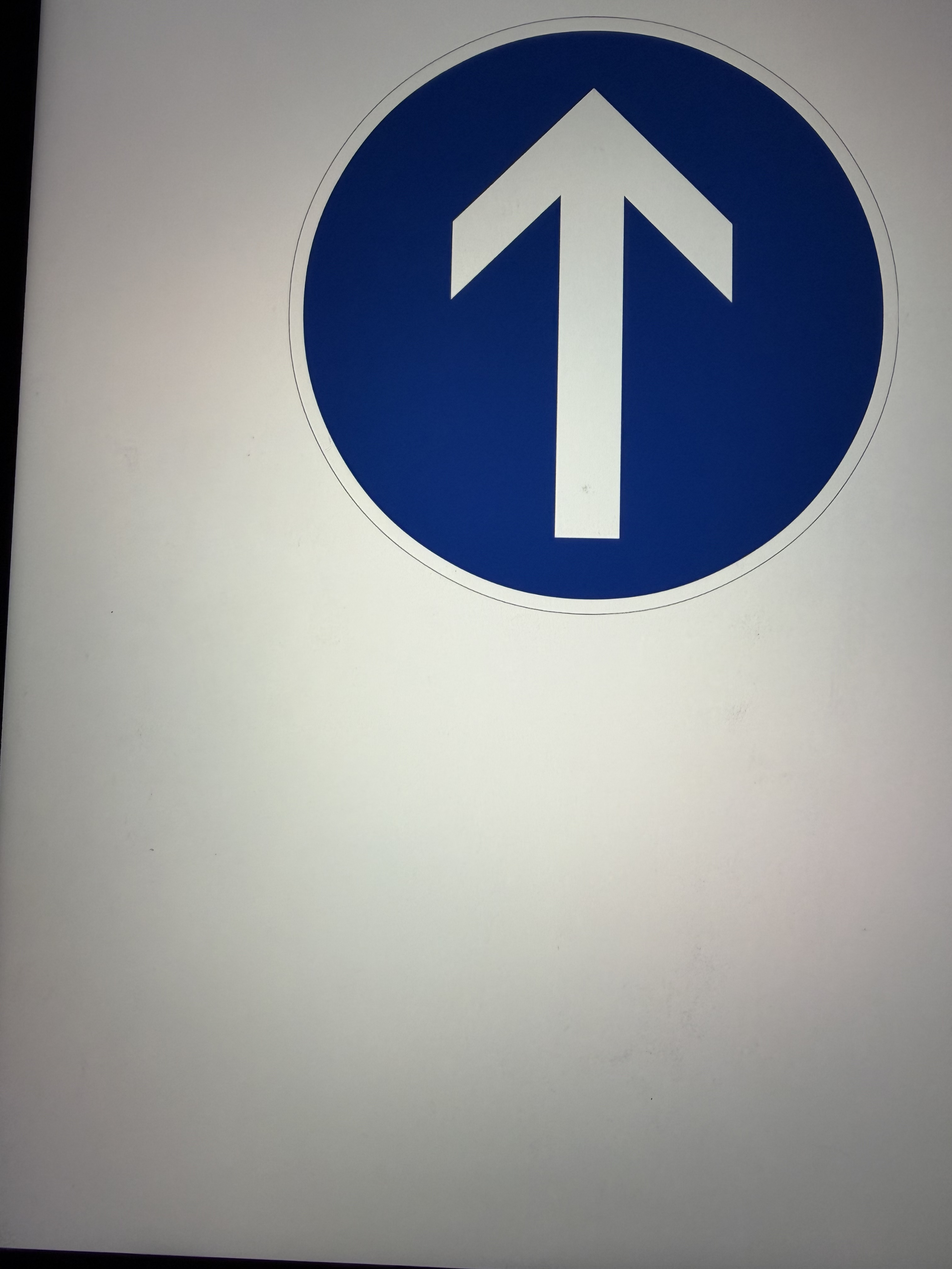GO FORWARD: (218, 28, 671, 815)
